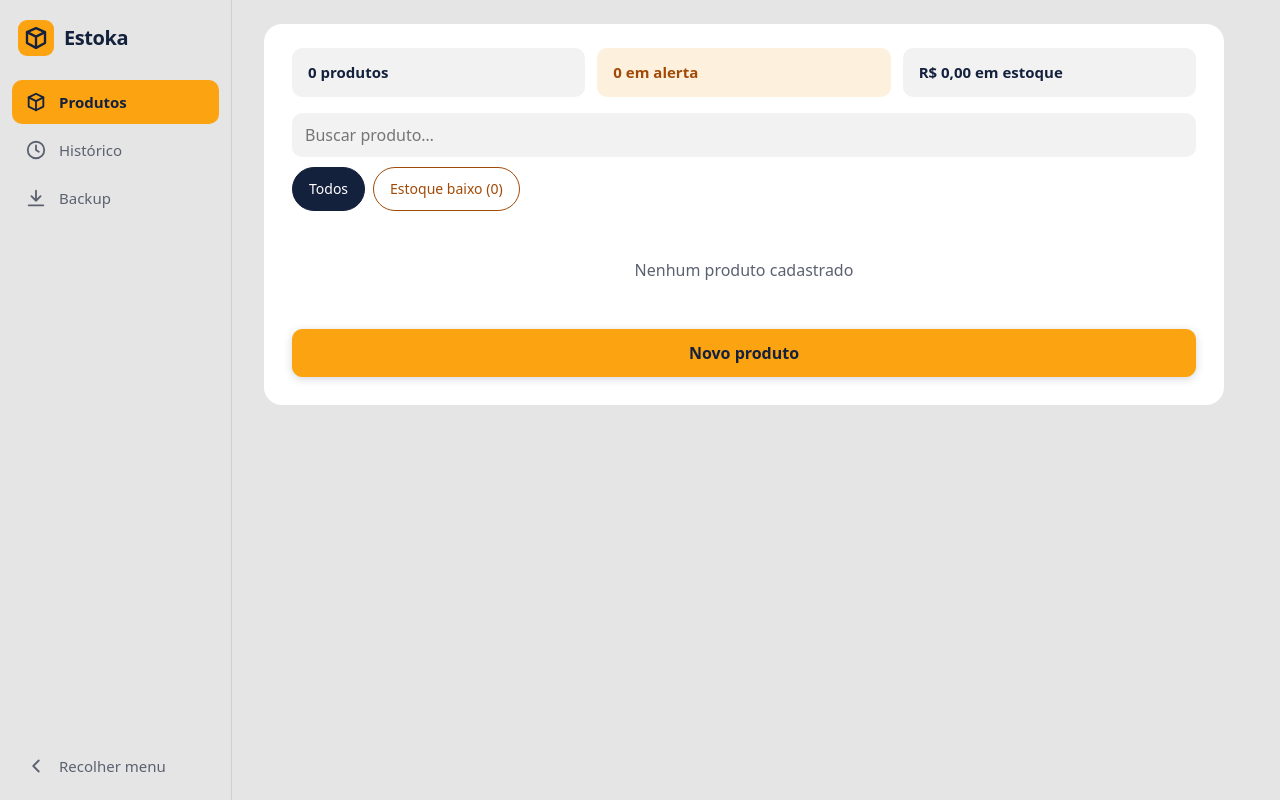
Test case: movimentação: falha ao gravar mostra o aviso dentro da folha e mantém a quantidade
The width and height of the screenshot is (1280, 800).
Click the button "Novo produto": (744, 353) left=292, top=329, right=1196, bottom=377
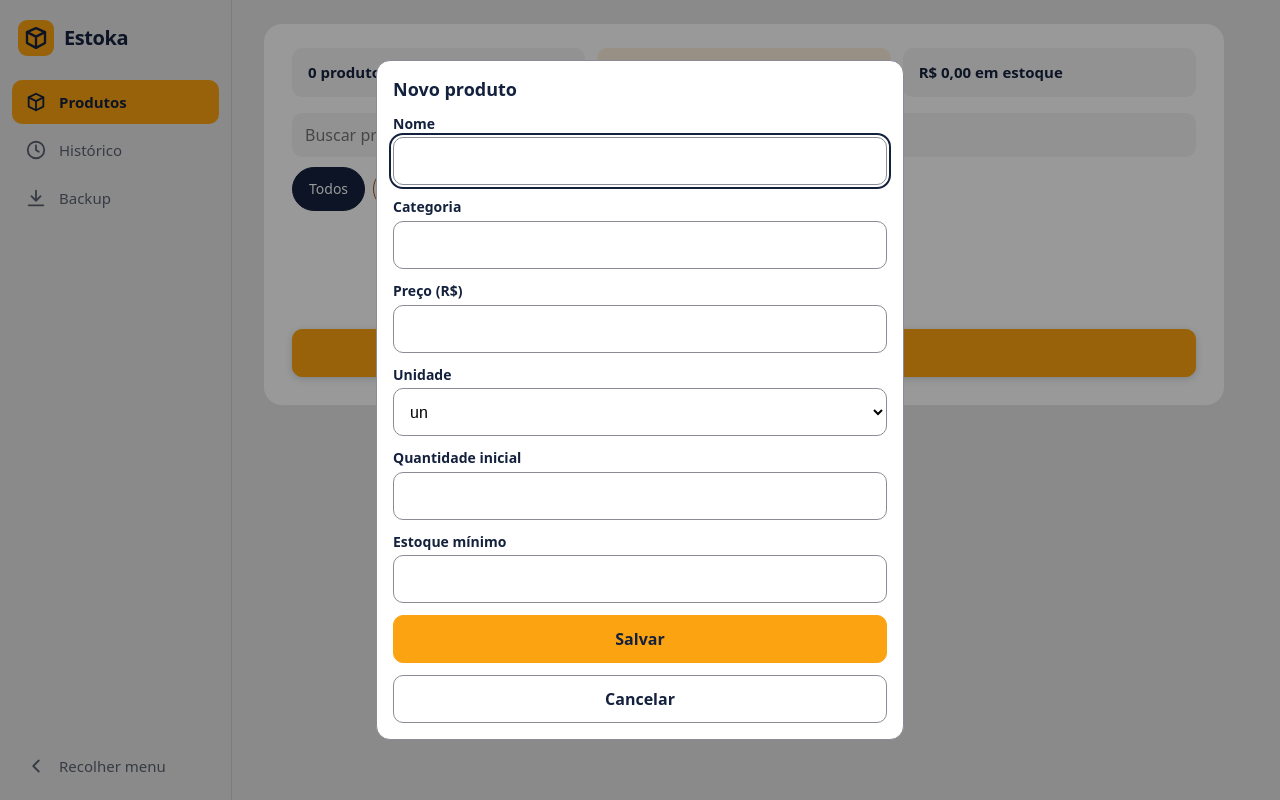
In the field labelled "Nome": (640, 161) left=393, top=137, right=887, bottom=185, type "Arroz 5 kg"
In the field labelled "Quantidade inicial": (640, 496) left=393, top=472, right=887, bottom=520, type "2"
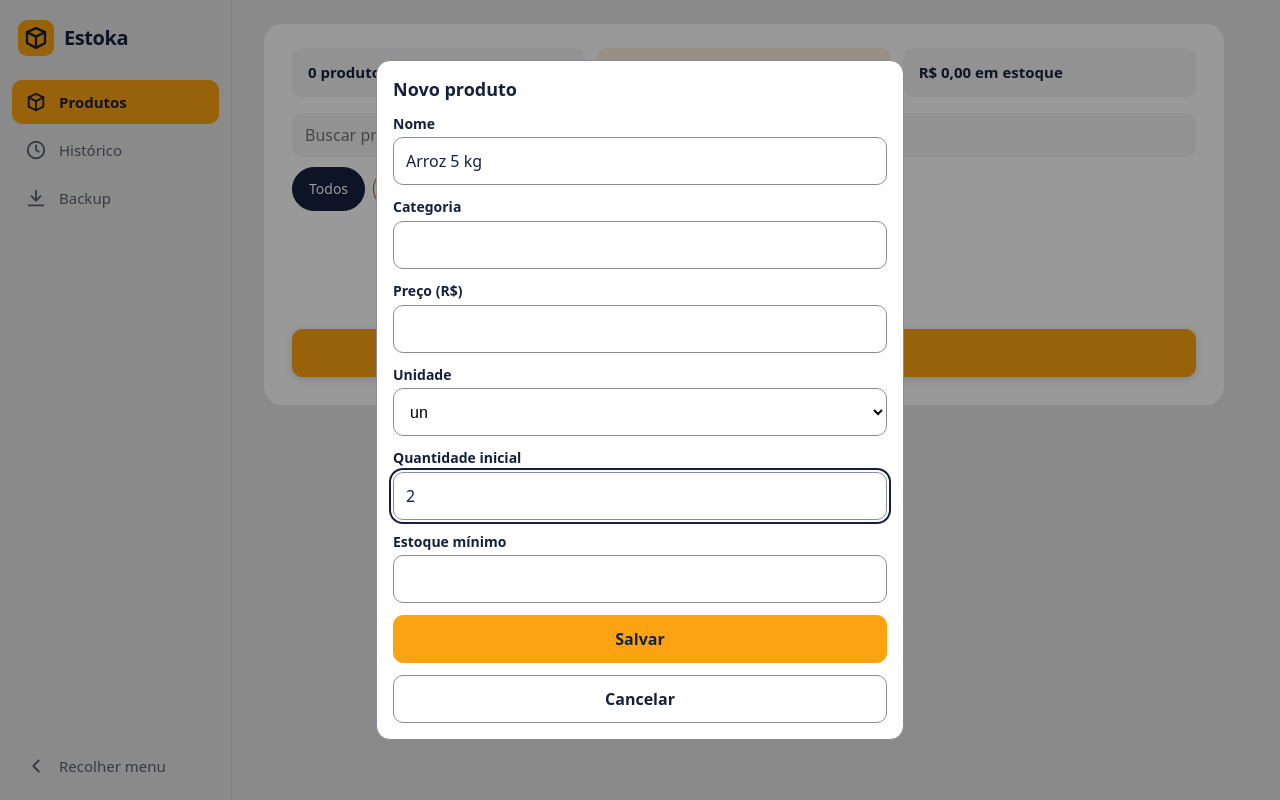
Click the button "Salvar": (640, 639) left=393, top=615, right=887, bottom=663
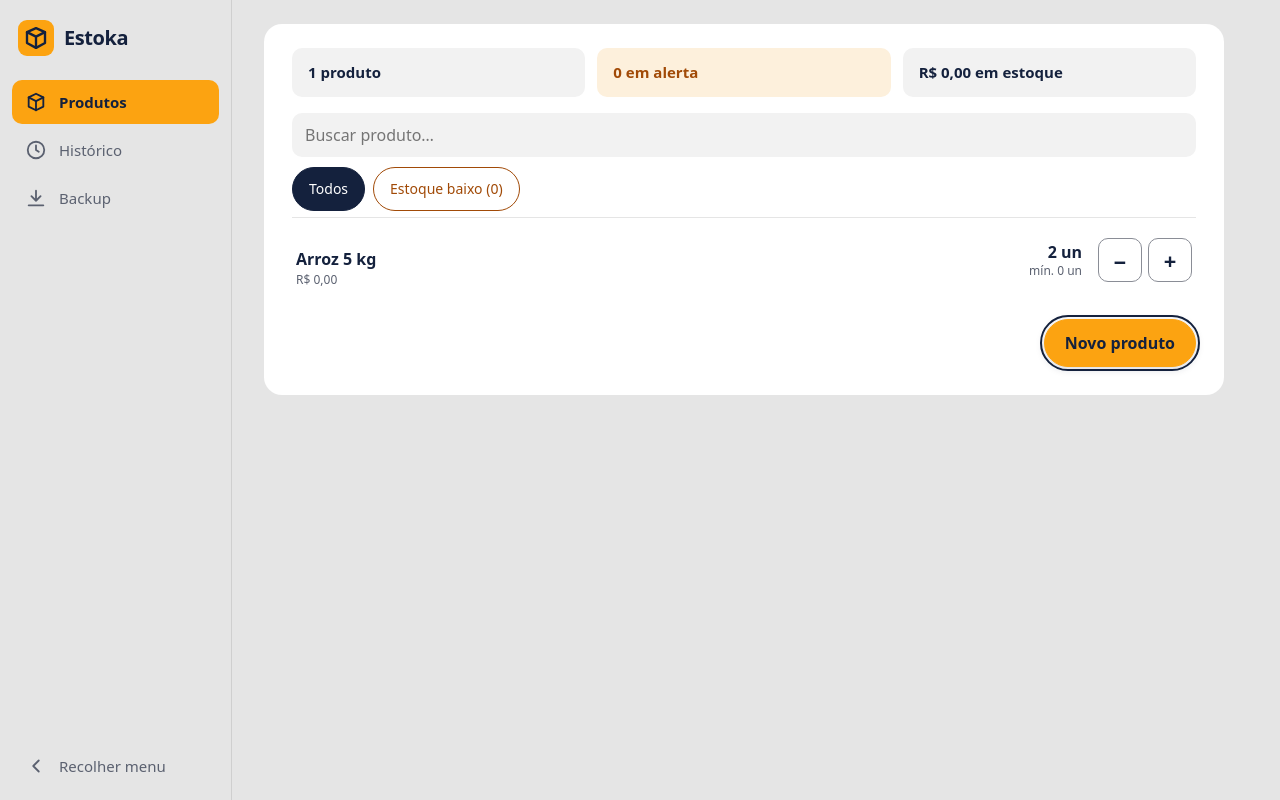
Click the button named "Registrar entrada de Arroz 5 kg": (1170, 260) left=1148, top=238, right=1192, bottom=282
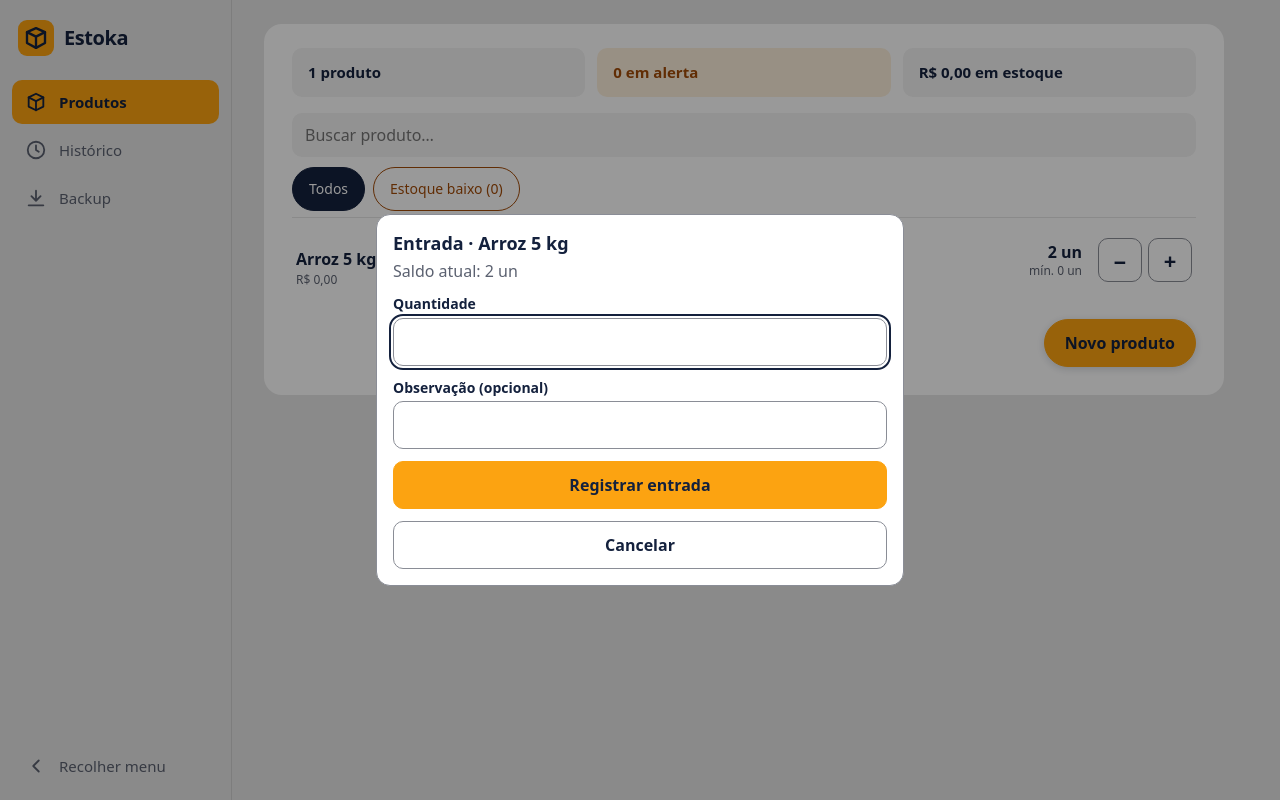
In the field labelled "Quantidade": (640, 342) left=393, top=318, right=887, bottom=366, type "4"
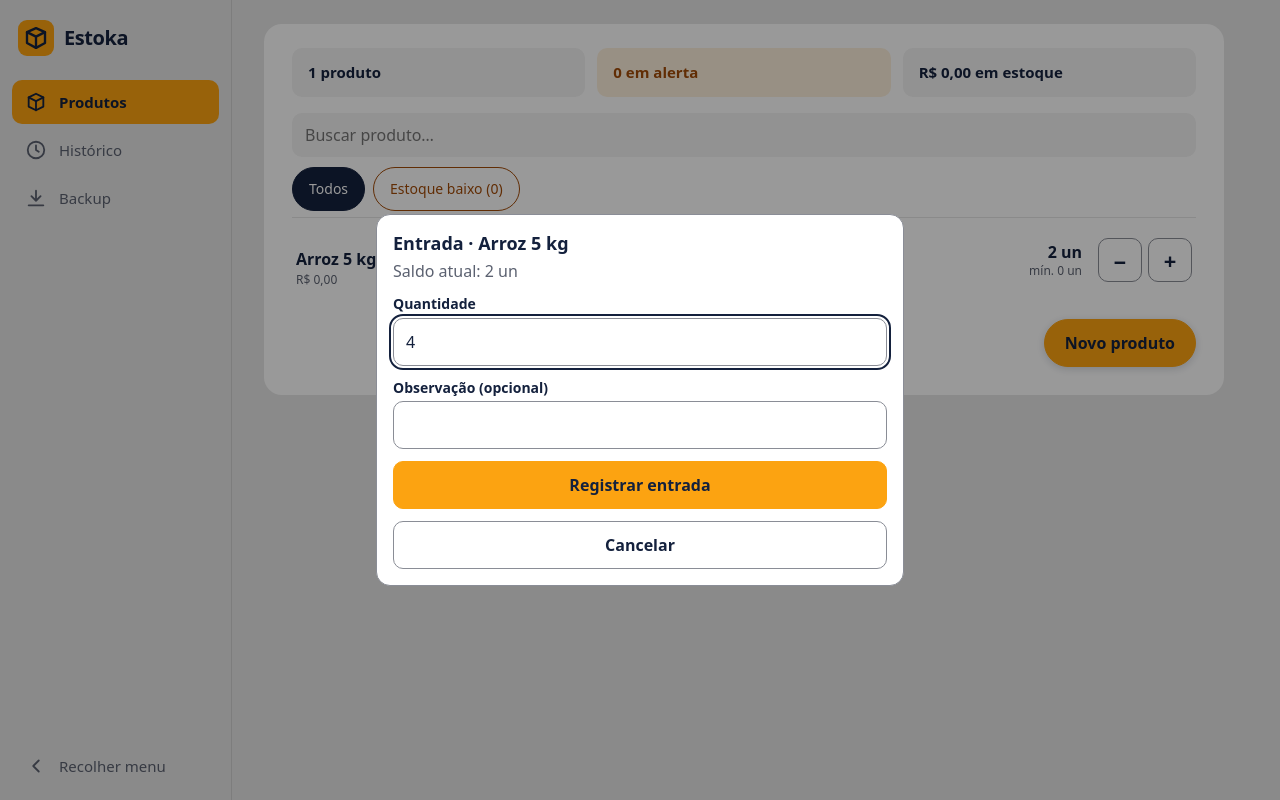
Click the button "Registrar entrada": (640, 485) left=393, top=461, right=887, bottom=509
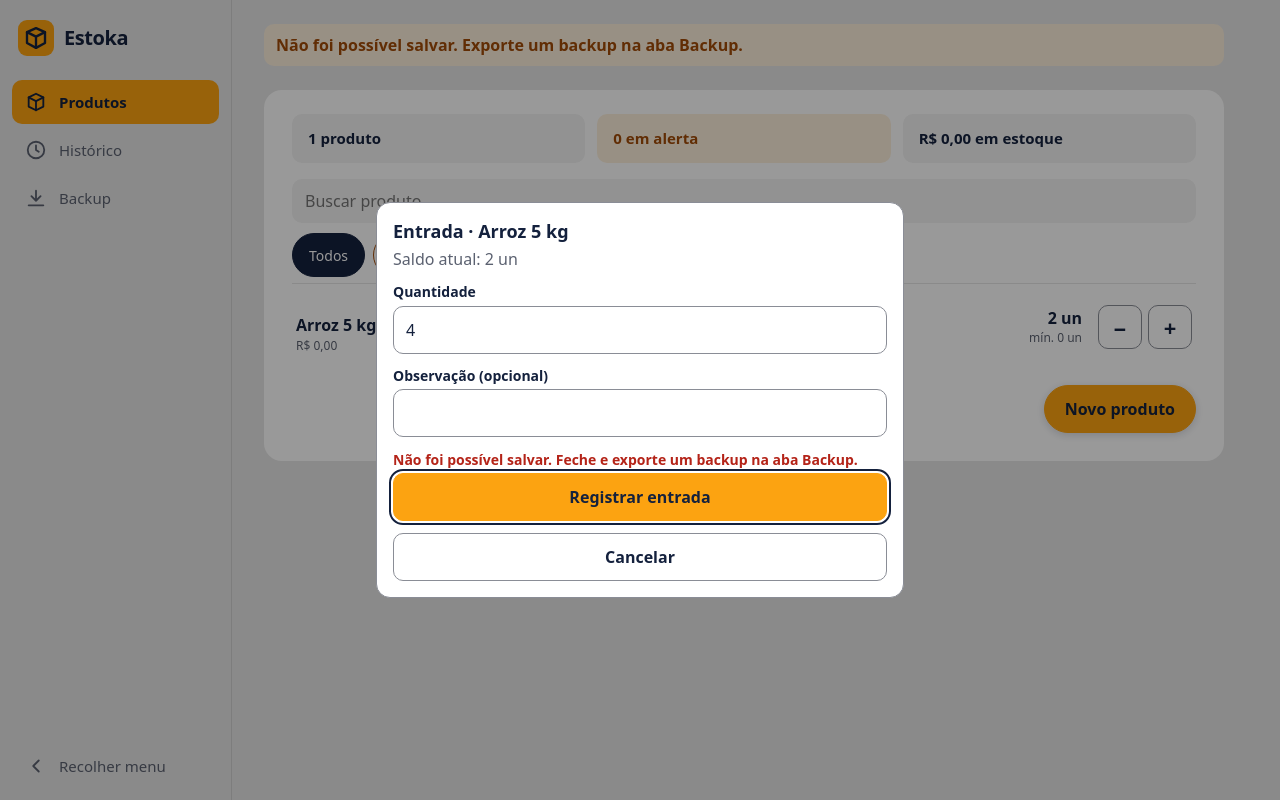
Expected: the message "Não foi possível salvar. Feche e exporte um backup na aba Backup." is shown, left=393, top=450, right=887, bottom=469
